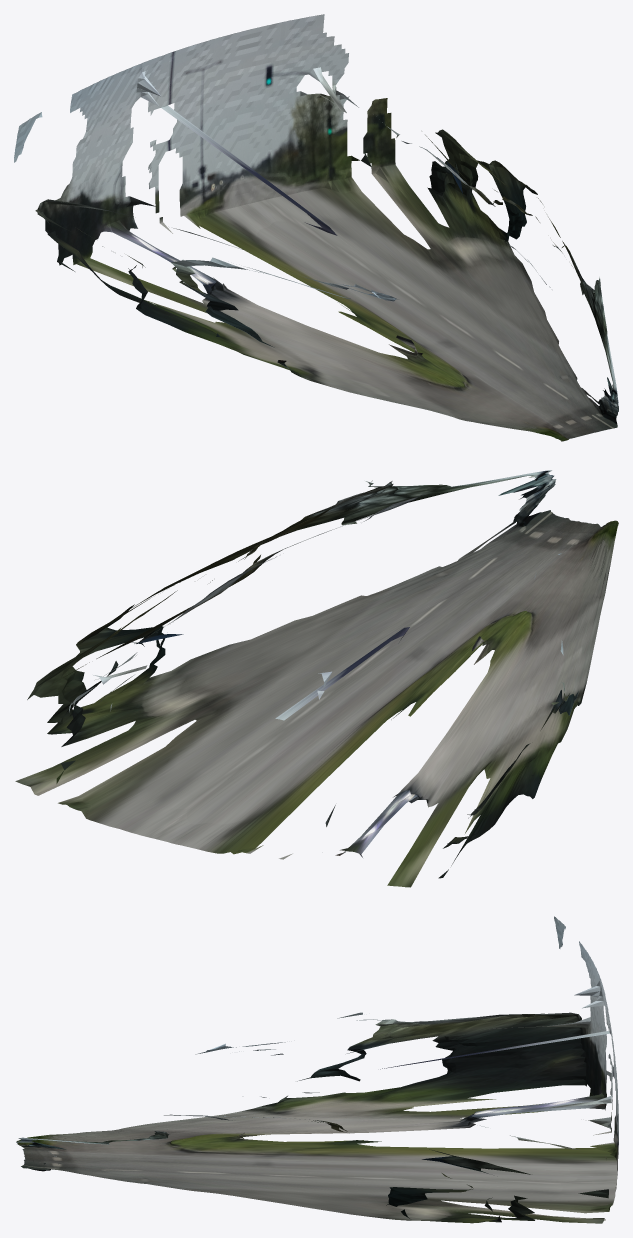
3 views of the same model, one above another, from view 1: azimuth 30°, elevation 25°; view 2: azimuth 150°, elevation 25°; view 3: azimuth 270°, elevation 25° (orthographic). The views are drawn at different scales.
Visible parts, largest first — view 1: defaultobject; view 2: defaultobject; view 3: defaultobject.
Boxes of the visible parts, x1,y1,x2,y2 form: defaultobject: (14,14,618,441); defaultobject: (15,470,618,887); defaultobject: (16,916,618,1223).
Bounding box in the file's own units: 32.61 × 13.11 × 45.29.
1 material, 1 textured.
